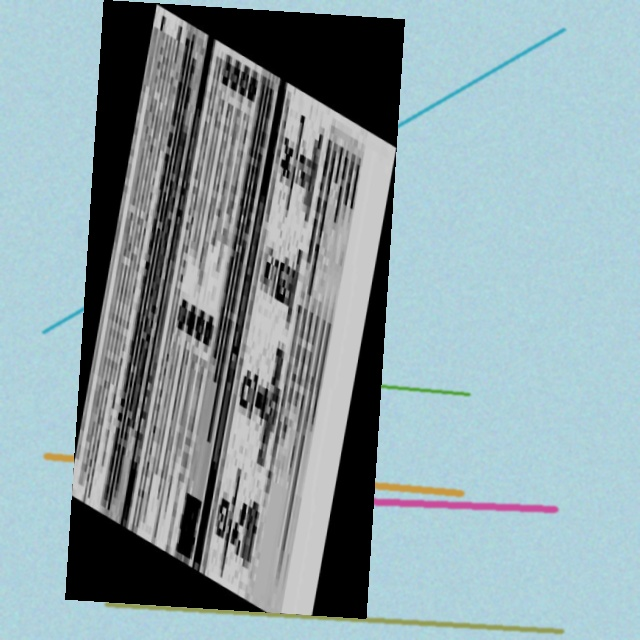electricity-bill: (64, 0, 404, 618)
